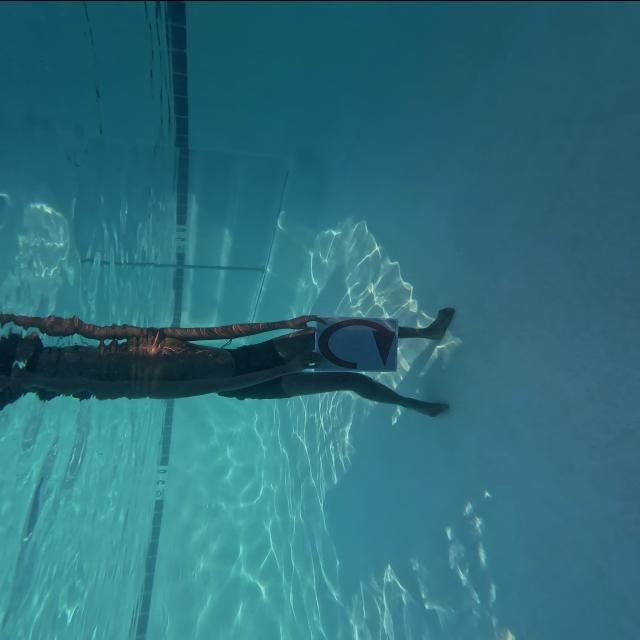red_side: (312, 308, 398, 373)
